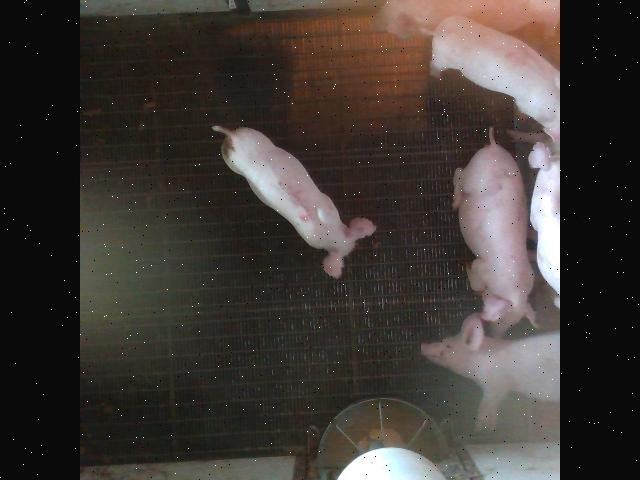pig-4: (431, 15, 559, 141)
pig-5: (212, 126, 376, 278)
